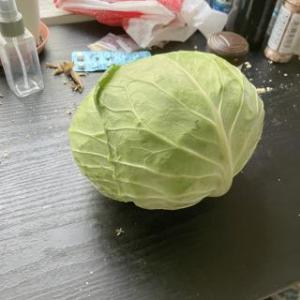cabbage: (68, 50, 266, 214)
